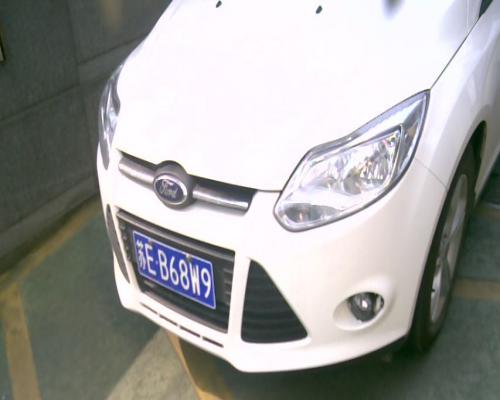Carplate: (127, 226, 217, 312)
